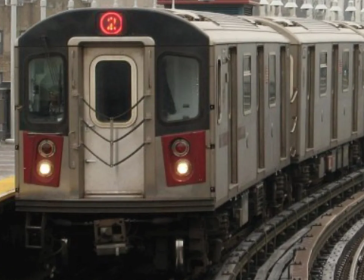train: (12, 7, 235, 209)
